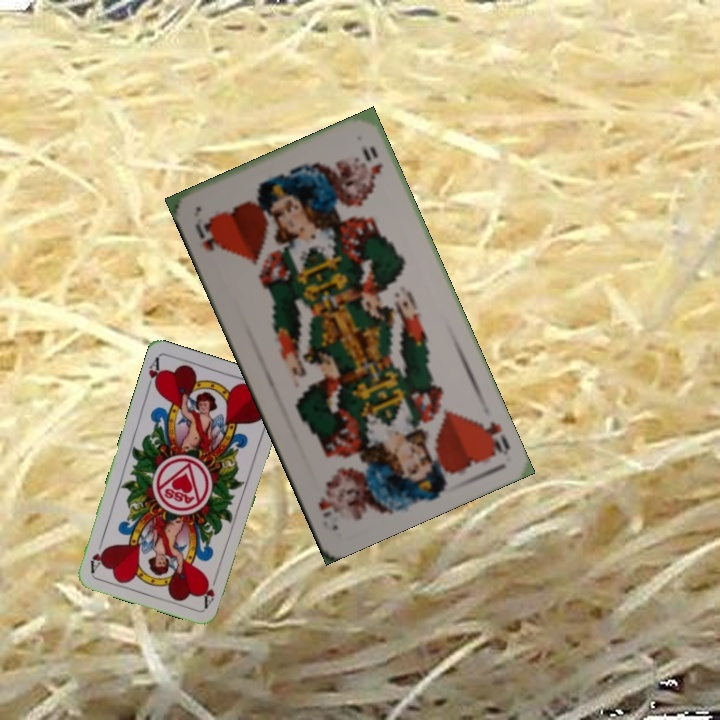HA: (143, 353, 165, 394), (199, 570, 221, 610)
HO: (473, 415, 513, 460), (191, 214, 217, 254)
